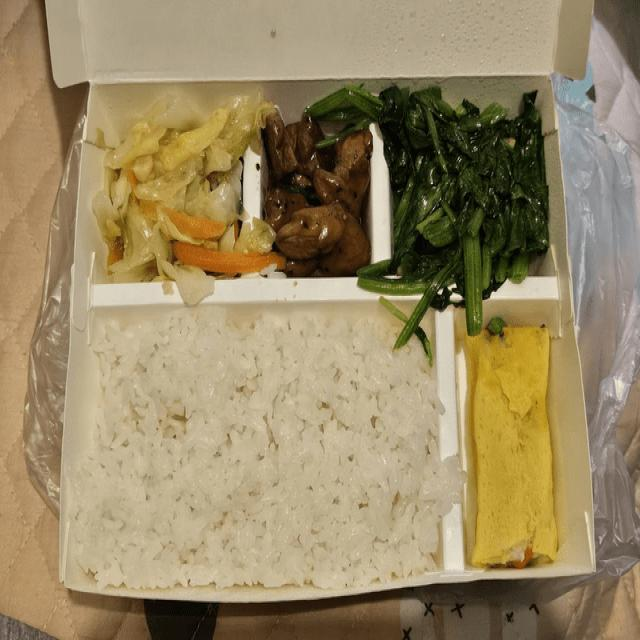Fushan-lettuce: (402, 108, 540, 266)
rice: (107, 323, 415, 552)
